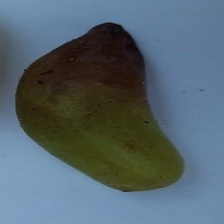grapes: (25, 29, 162, 212)
